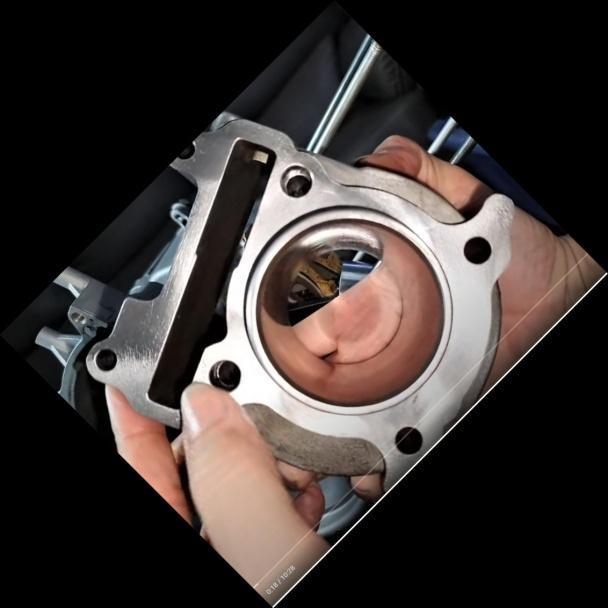hole: (199, 350, 250, 401), (272, 156, 321, 206), (455, 226, 502, 272), (386, 417, 431, 461)
